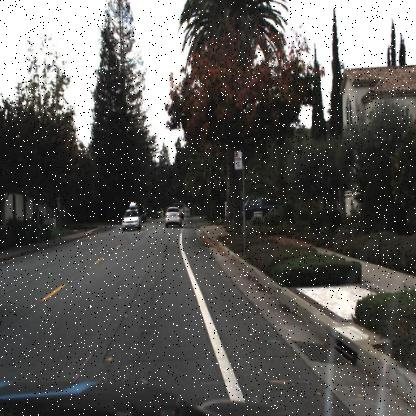car: (236, 194, 273, 221), (121, 199, 142, 233), (162, 204, 184, 228)
